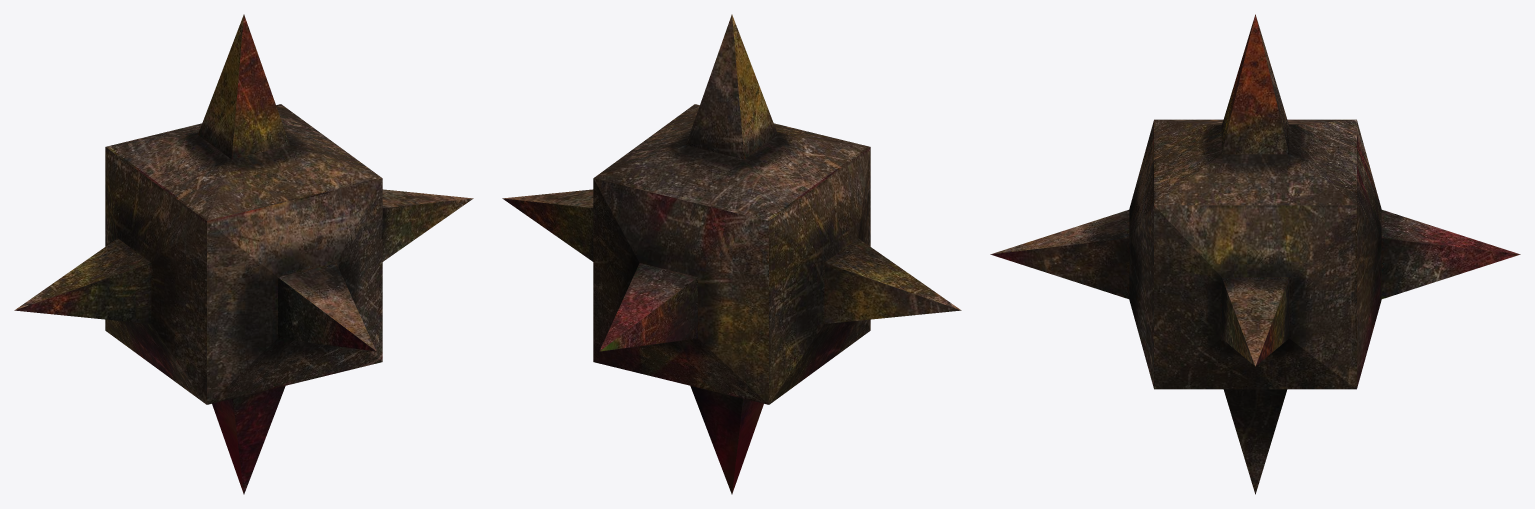
The model's file is PincheRusty.fbx.
3 views of the same model, side by side, from view 1: azimuth 30°, elevation 25°; view 2: azimuth 150°, elevation 25°; view 3: azimuth 270°, elevation 25° (orthographic).
Parts seen in each view (by area): view 1: Cube; view 2: Cube; view 3: Cube.
Part boxes in pixels (left/top/right/bottom): Cube: left=14, top=14, right=473, bottom=494; Cube: left=502, top=14, right=961, bottom=494; Cube: left=990, top=14, right=1520, bottom=494.
Size of the model in its own units: 787 by 787 by 787.
Materials: 1 (1 with a texture image).
